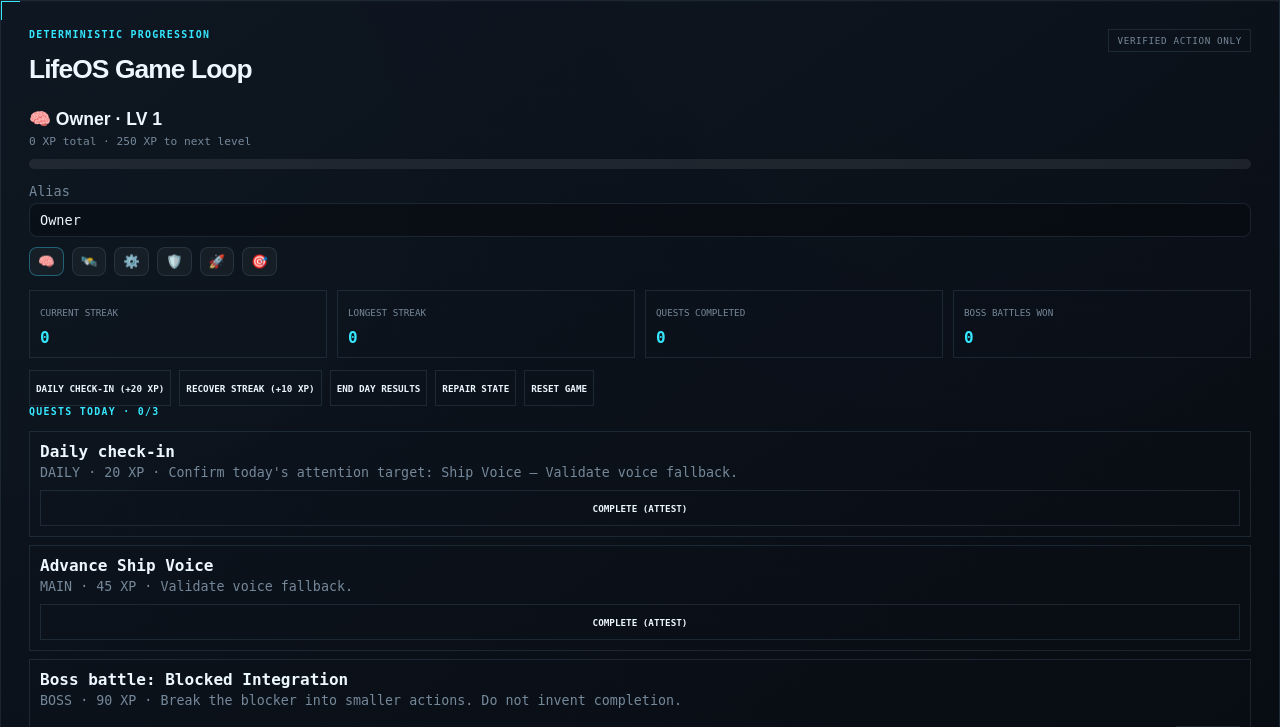
GameLoopWidget feedback and safety › announces achievements once and never for a repeated check-in
Click the button "Daily check-in (+20 XP)". click: (100, 388)
box: [29, 370, 171, 406]
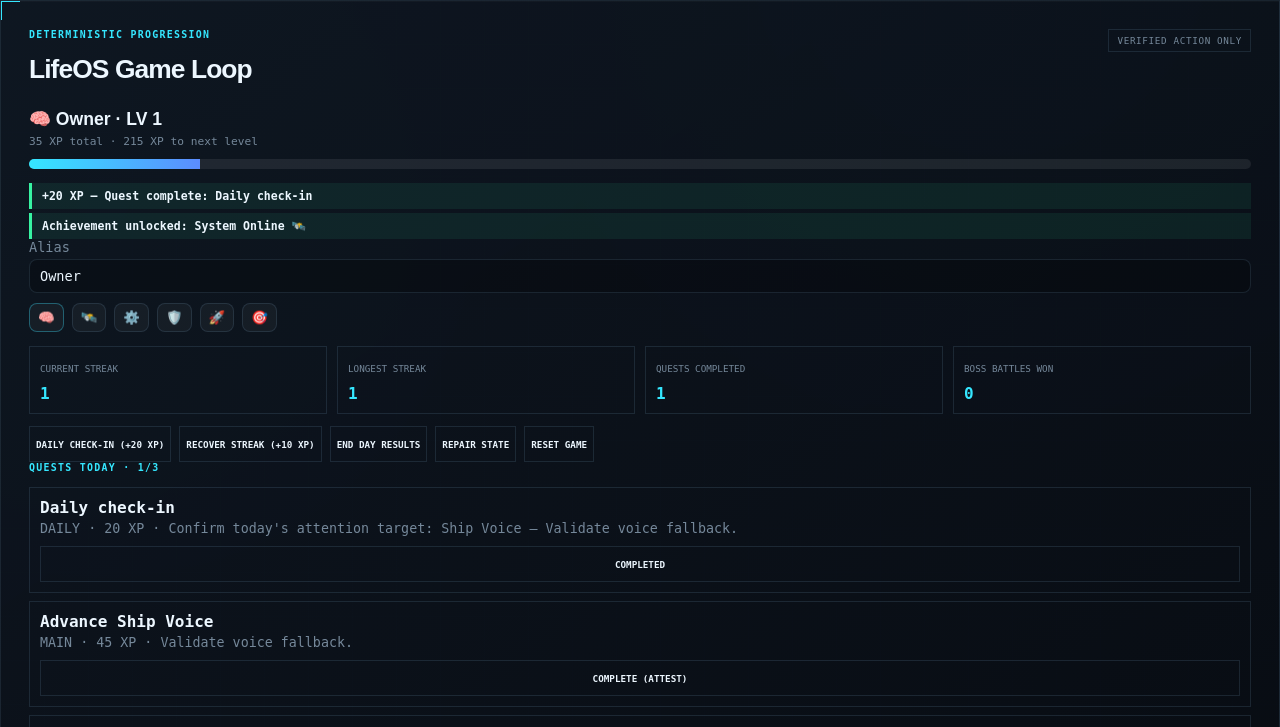
Expected: the message shows "+20 XP — Quest complete: Daily check-in", [42, 189, 312, 203]
Expected: the message shows "Achievement unlocked: System Online 🛰️", [42, 219, 306, 233]
Click the button "Daily check-in (+20 XP)". click: (100, 444)
box: [29, 426, 171, 462]
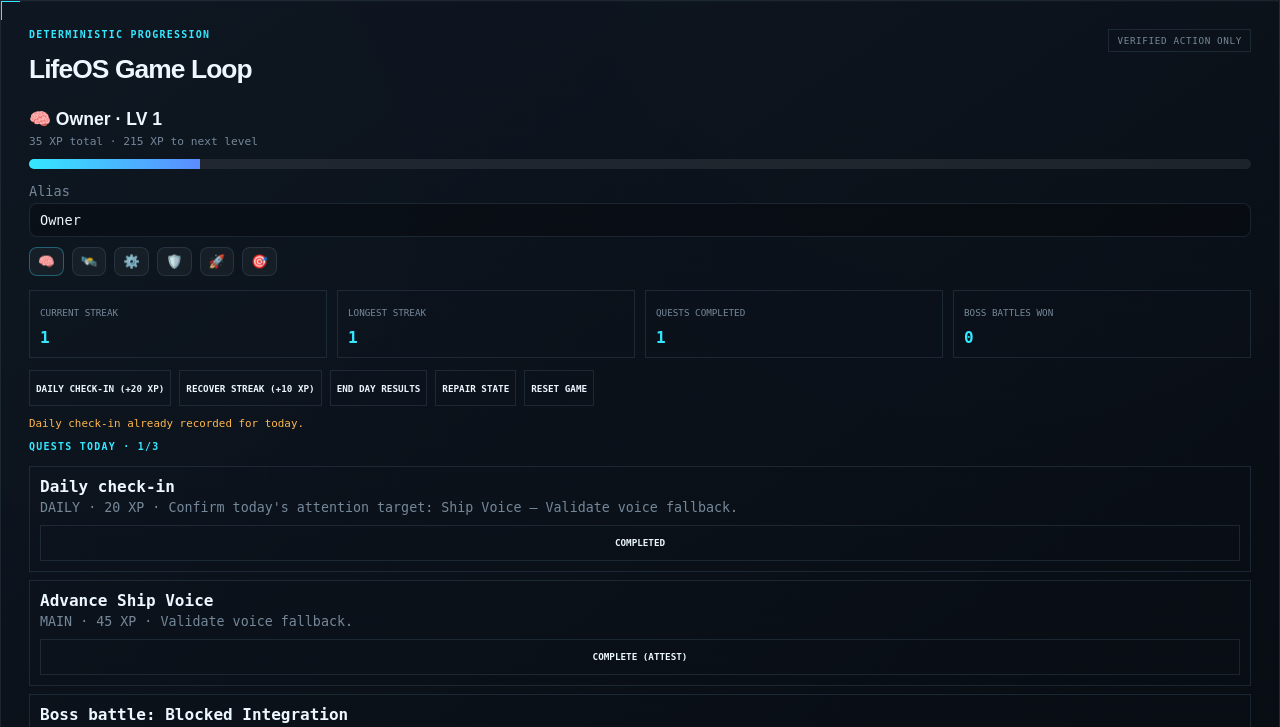
Expected: the text "Daily check-in already recorded for today." is shown, [29, 417, 304, 430]
